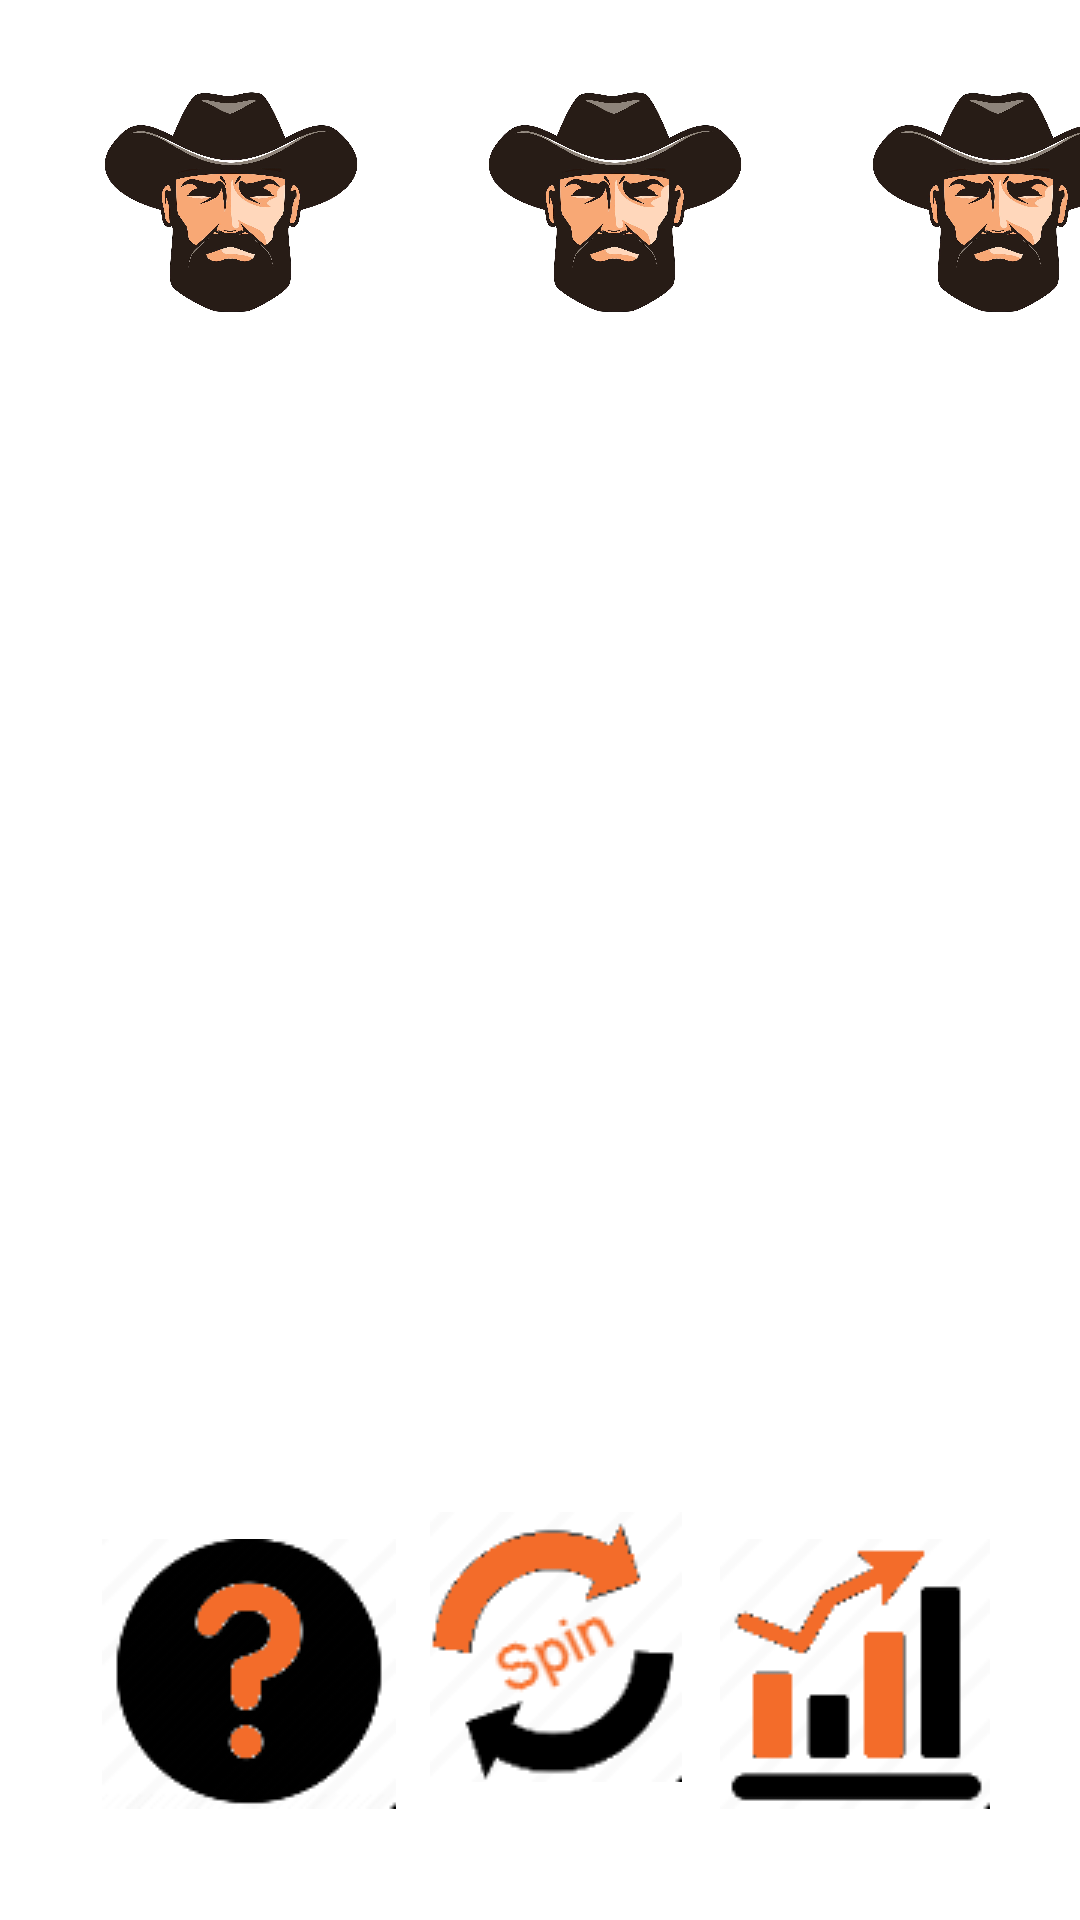

Screen size 1080 × 1920. Icon name, then its center in pixels as (x=x, y=y):
help: (x=256, y=1674)
stats: (x=860, y=1679)
